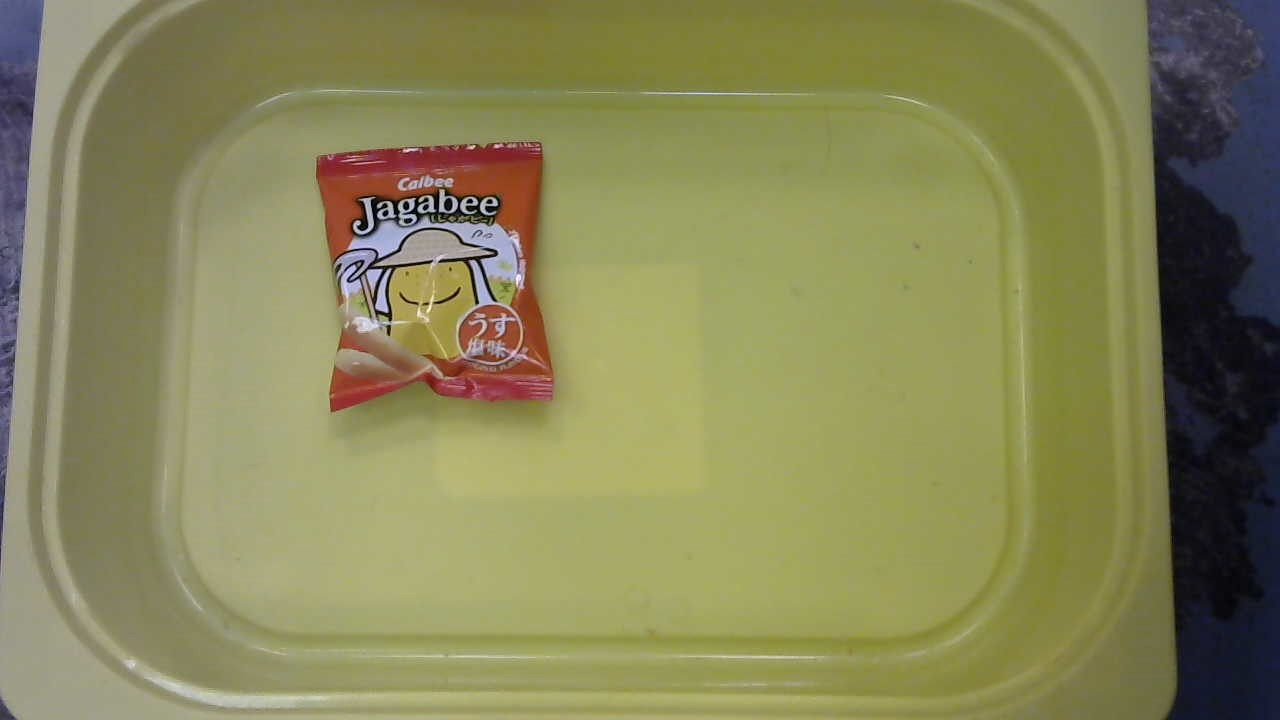JagabeeFarmer: (302, 134, 573, 419)
